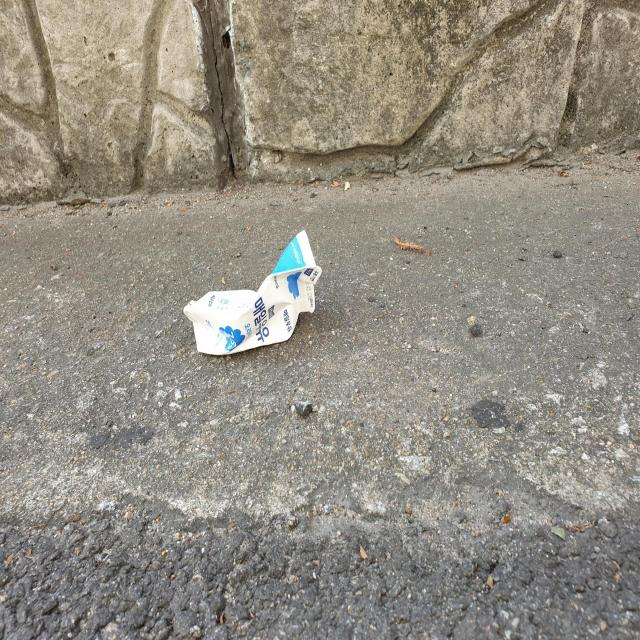paperpack: (183, 229, 322, 355)
